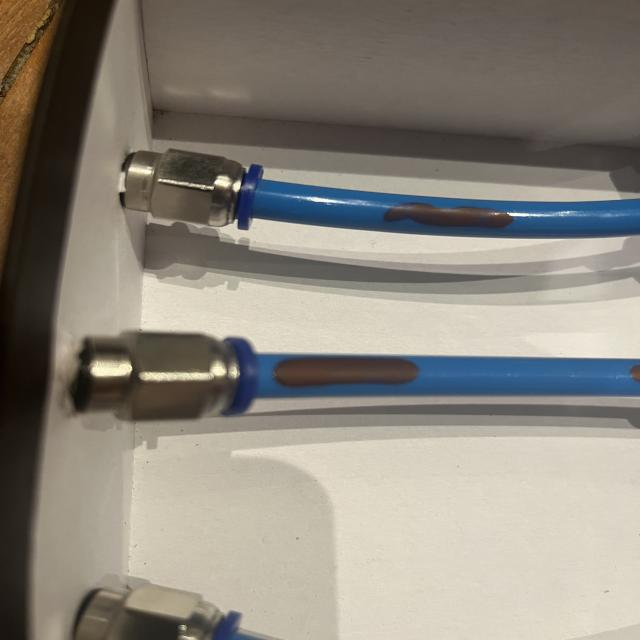hose_damage: (266, 351, 422, 391), (376, 201, 516, 234), (626, 362, 640, 385)
